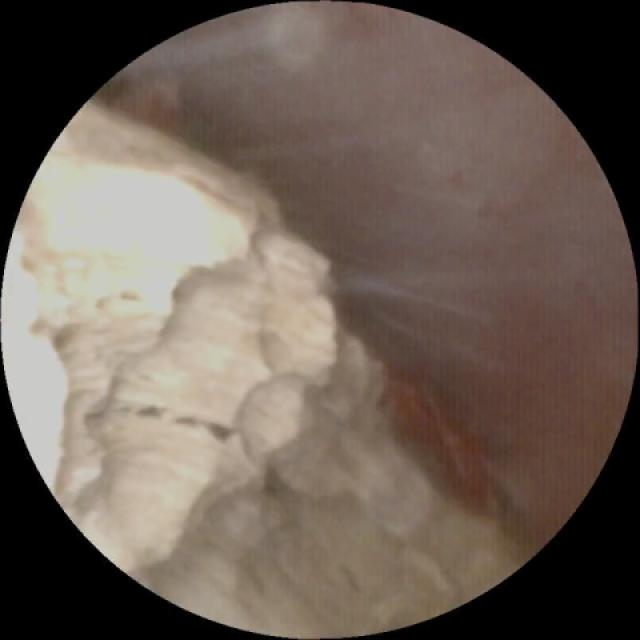stone: (11, 108, 510, 630)
tissue: (133, 15, 618, 532)
